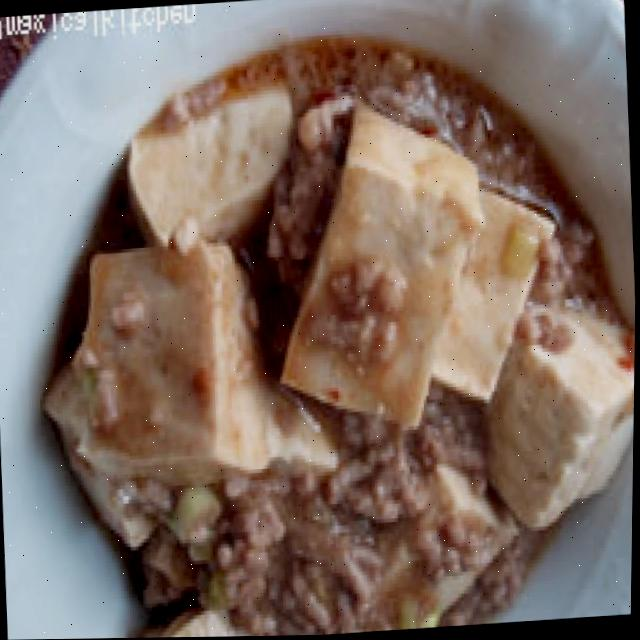豆腐料理: (0, 20, 640, 640)
